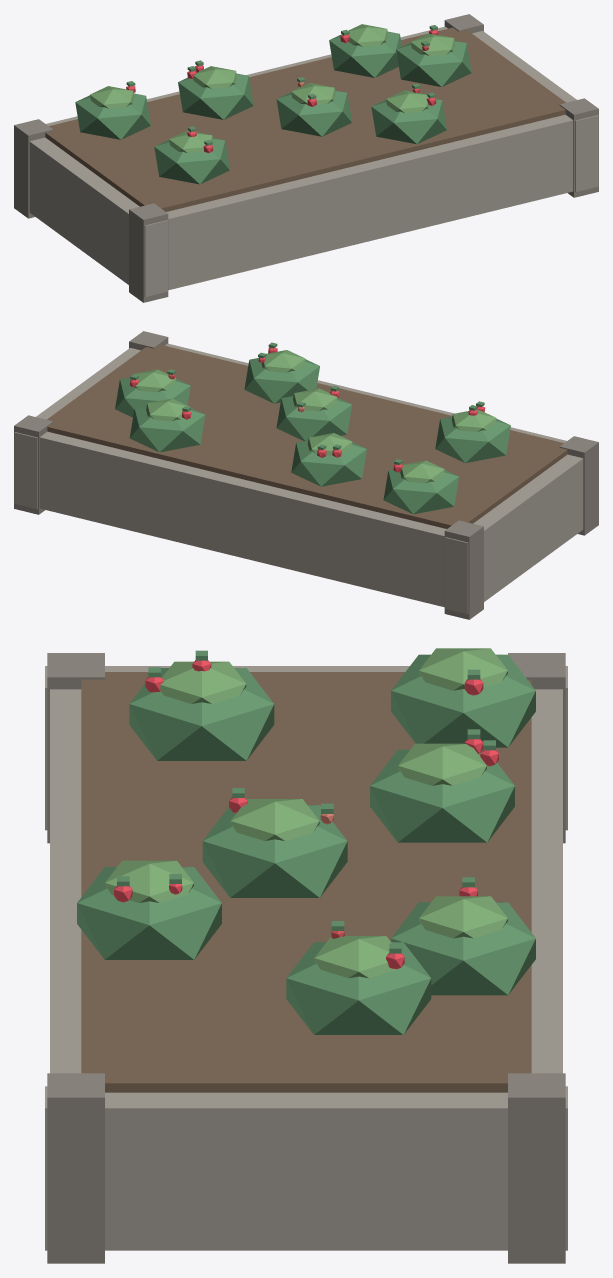
File: strawberry_bed_v1.glb
3 renders of one model, top to bottom at view 1: azimuth 30°, elevation 25°; view 2: azimuth 150°, elevation 25°; view 3: azimuth 270°, elevation 25°, orthographic. The views are drawn at different scales.
Visible parts, largest first — view 1: Soil, BoardF.0.25, BoardF.0.1, BoardL.0.25, BoardL.0.1, Leaf.5, Leaf.3, Leaf.4, Leaf.1, Leaf.0, Leaf.2, Leaf.6 (+14 smaller); view 2: Soil, BoardB.0.25, BoardB.0.1, BoardL.0.25, BoardL.0.1, Leaf.0, Leaf.5, Leaf.6, Leaf.1, Leaf.4, Leaf.2, Post.-1.1 (+14 smaller); view 3: Soil, BoardR.0.25, BoardR.0.1, BoardF.0.25, BoardB.0.25, Post.1.1, Post.1.-1, Leaf.2, Leaf.3, Leaf.1, Leaf.4, Leaf.0 (+12 smaller).
Part boxes in pixels (left/top/right/bottom): Soil: left=45, top=27, right=565, bottom=211; BoardF.0.25: left=166, top=114, right=573, bottom=254; BoardF.0.1: left=168, top=156, right=573, bottom=290; BoardL.0.25: left=29, top=137, right=167, bottom=261; BoardL.0.1: left=29, top=177, right=167, bottom=296; Leaf.5: left=75, top=93, right=150, bottom=139; Leaf.3: left=396, top=41, right=471, bottom=86; Leaf.4: left=276, top=90, right=351, bottom=136; Leaf.1: left=178, top=73, right=253, bottom=119; Leaf.0: left=154, top=138, right=229, bottom=184; Leaf.2: left=371, top=99, right=446, bottom=144; Leaf.6: left=329, top=31, right=401, bottom=77; Soil: left=47, top=344, right=567, bottom=528; BoardB.0.25: left=39, top=431, right=446, bottom=571; BoardB.0.1: left=39, top=473, right=444, bottom=607; BoardL.0.25: left=445, top=454, right=583, bottom=578; BoardL.0.1: left=445, top=494, right=583, bottom=613; Leaf.0: left=435, top=417, right=510, bottom=462; Leaf.5: left=383, top=469, right=458, bottom=514; Leaf.6: left=129, top=406, right=205, bottom=452; Leaf.1: left=291, top=440, right=366, bottom=486; Leaf.4: left=276, top=396, right=352, bottom=440; Leaf.2: left=244, top=358, right=319, bottom=403; Post.-1.1: left=444, top=520, right=483, bottom=619; Soil: left=81, top=672, right=531, bottom=1092; BoardR.0.25: left=45, top=1086, right=567, bottom=1179; BoardR.0.1: left=45, top=1179, right=567, bottom=1250; BoardF.0.25: left=50, top=689, right=81, bottom=1073; BoardB.0.25: left=531, top=689, right=562, bottom=1073; Post.1.1: left=508, top=1073, right=565, bottom=1263; Post.1.-1: left=47, top=1073, right=104, bottom=1263; Leaf.2: left=77, top=867, right=221, bottom=959; Leaf.3: left=286, top=942, right=431, bottom=1034; Leaf.1: left=370, top=749, right=514, bottom=842; Leaf.4: left=202, top=805, right=347, bottom=897; Leaf.0: left=129, top=668, right=274, bottom=760.
Size of the model in its own units: 2.01 by 0.5288 by 1.
